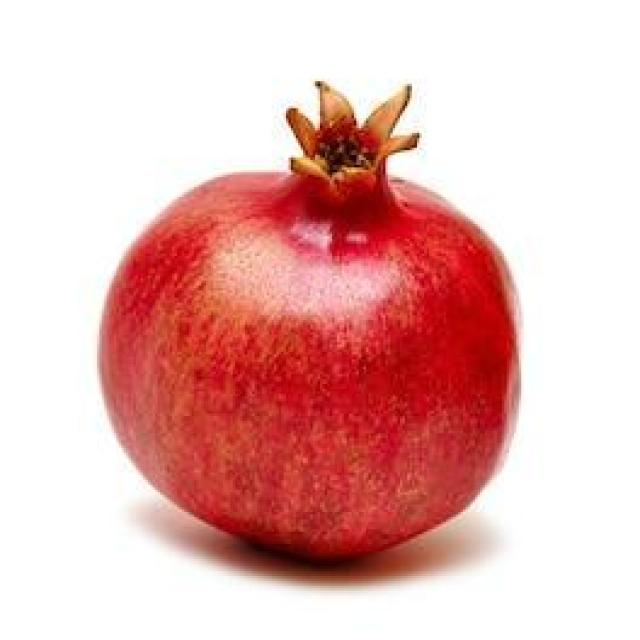Pomegranate: (93, 68, 524, 566)
